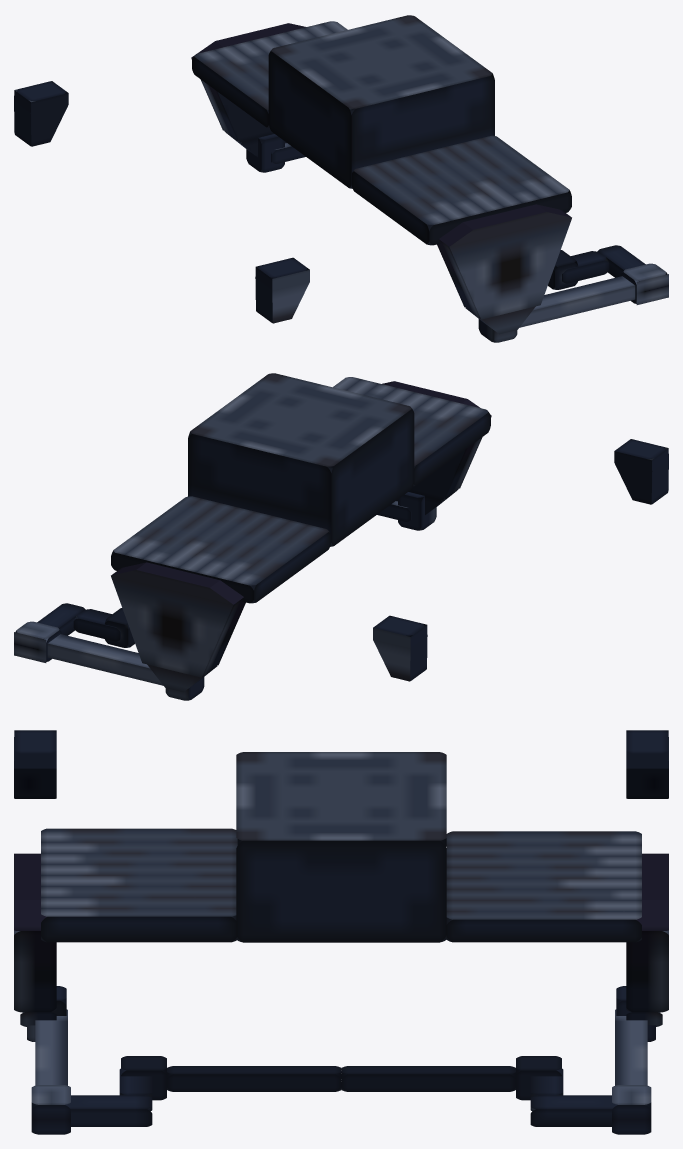
The model's file is df11g_bogey_top.obj.
3 views of the same model, one above another, from view 1: azimuth 30°, elevation 25°; view 2: azimuth 150°, elevation 25°; view 3: azimuth 270°, elevation 25° (orthographic). The views are drawn at different scales.
Parts seen in each view (by area): view 1: primary_spring_selection_selection_selection; view 2: primary_spring_selection_selection_selection; view 3: primary_spring_selection_selection_selection.
Part boxes in pixels (x1,y1,x2,y2): primary_spring_selection_selection_selection: (14,15,668,342); primary_spring_selection_selection_selection: (14,373,668,700); primary_spring_selection_selection_selection: (14,730,668,1134).
Size of the model in its own units: 2.81 by 1.25 by 3.12.
